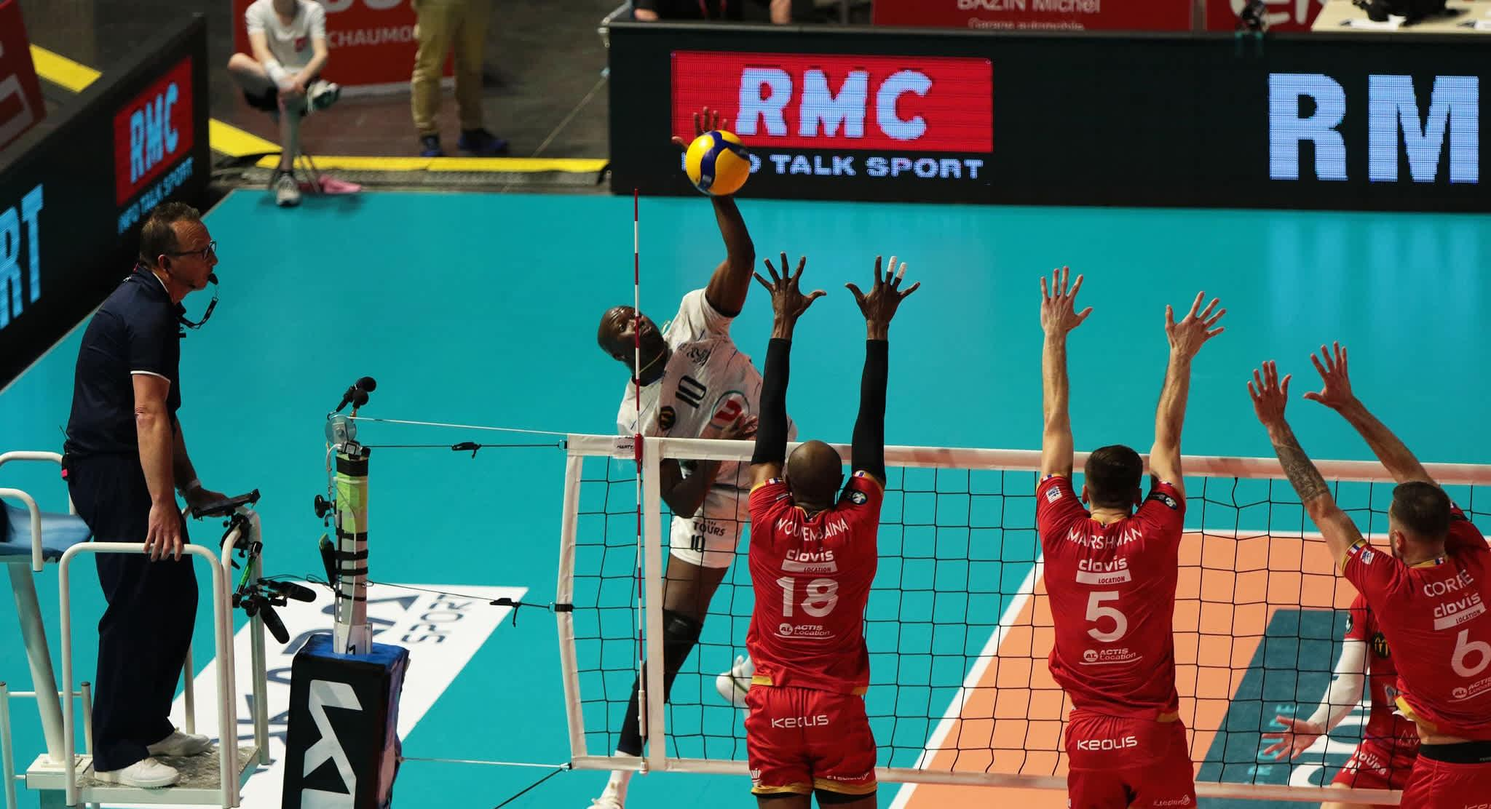ballon_volley: (683, 127, 754, 196)
